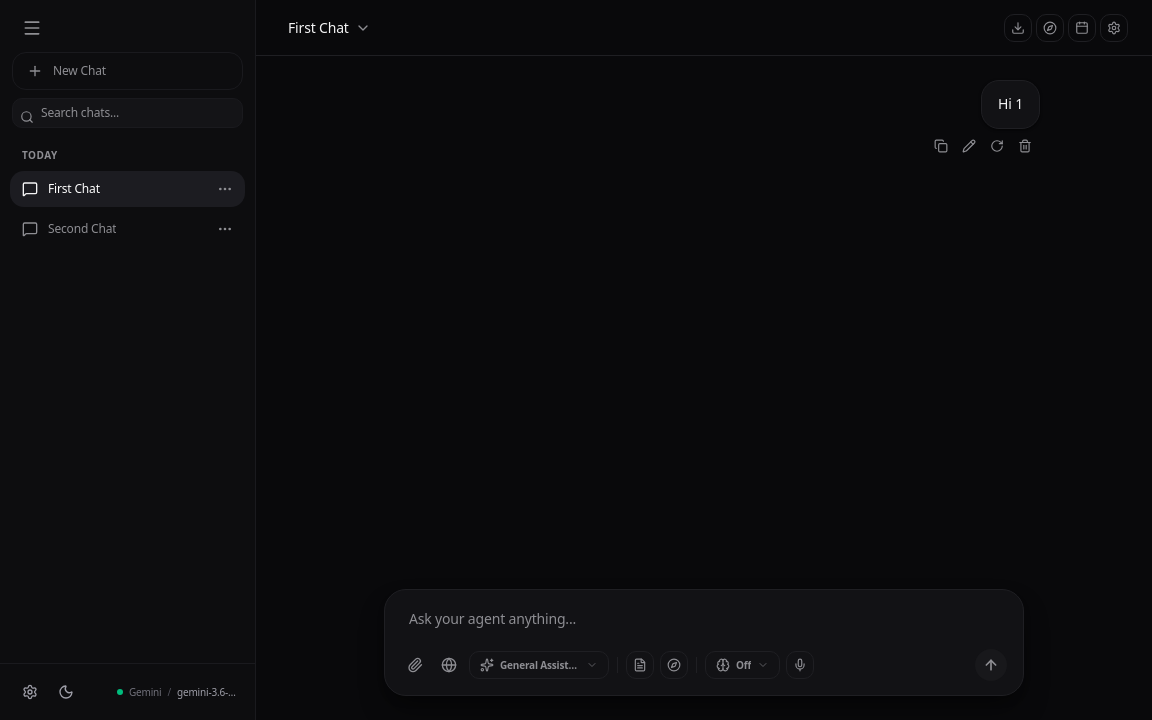
Test: Chat Deletion and Undo Flow in App › restores pending queued message into composer input when generation is stopped
Expected: the text "Hi 1" is shown, x1=998 y1=93 x2=1023 y2=116
// Send 1st message
Type "In flight prompt" into the text box with placeholder "Ask your agent anything..." at (704, 620), box x1=397 y1=602 x2=1011 y2=637
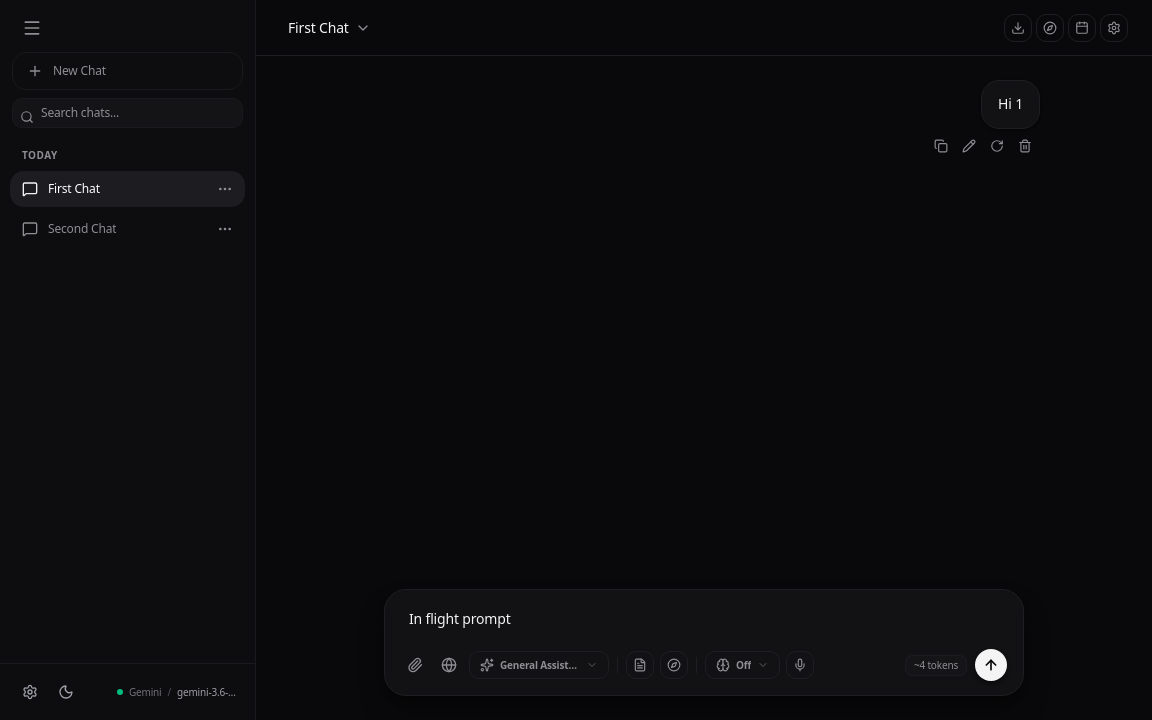
Press Enter in the text box with placeholder "Ask your agent anything...", box x1=397 y1=602 x2=1011 y2=637
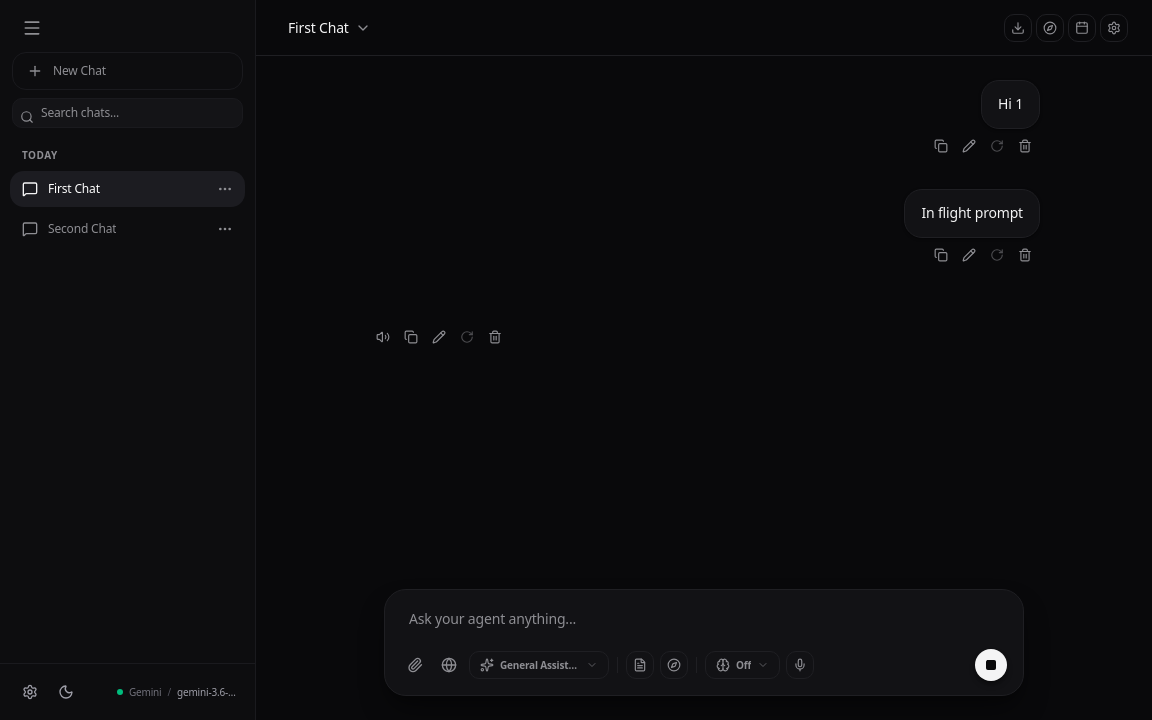
Expected: the button named "Stop generating" is shown, x1=975 y1=649 x2=1007 y2=681
// Queue 2nd message
Type "Pending prompt to recover" into the text box with placeholder "Ask your agent anything..." at (704, 620), box x1=397 y1=602 x2=1011 y2=637
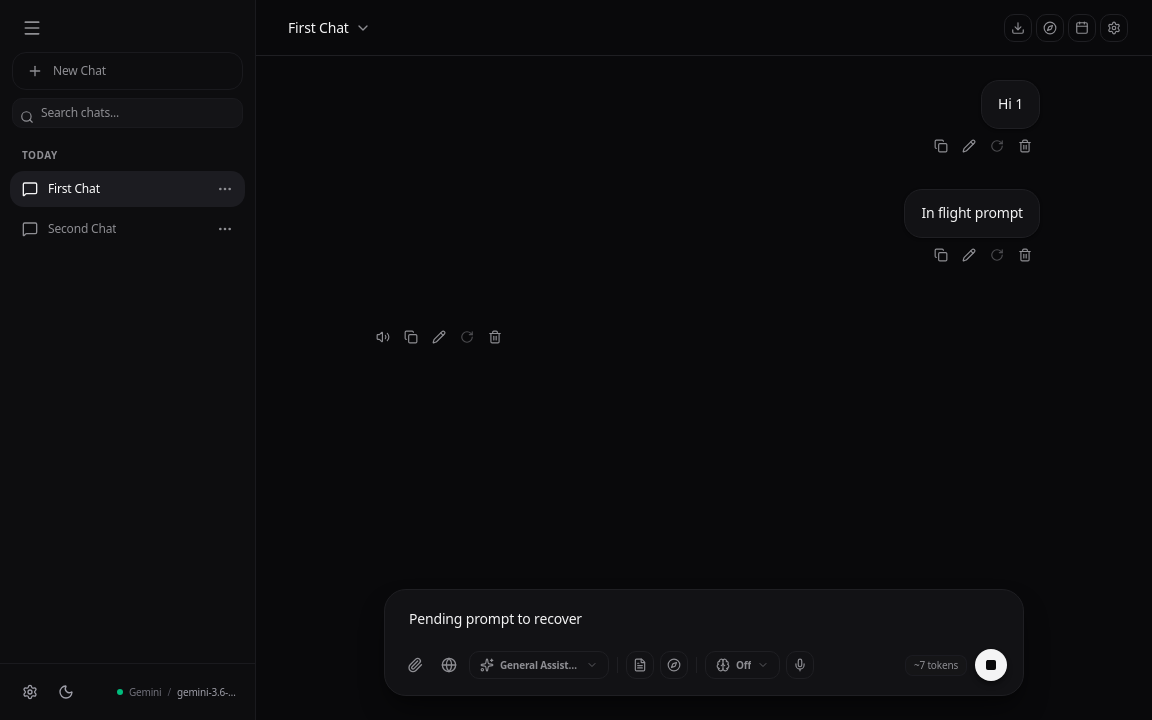
Press Enter in the text box with placeholder "Ask your agent anything...", box x1=397 y1=602 x2=1011 y2=637
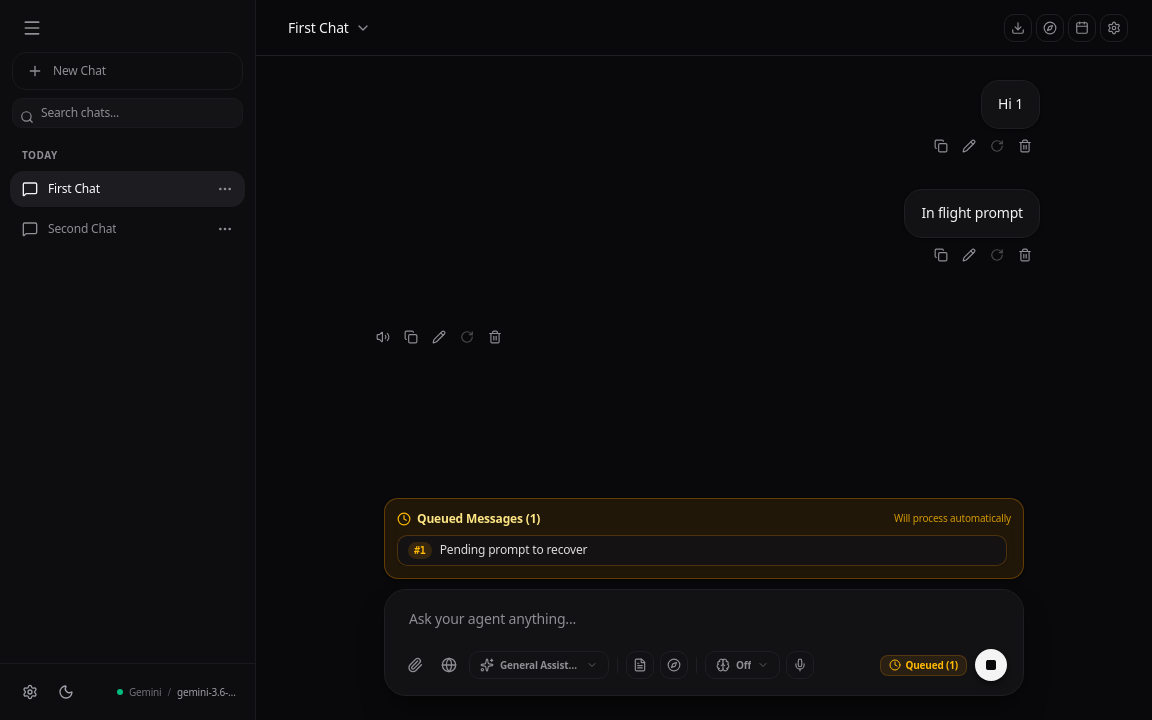
Expected: the text "Queued Messages (1)" is shown, x1=417 y1=511 x2=540 y2=527
Expected: the text "Pending prompt to recover" is shown, x1=440 y1=541 x2=587 y2=558
// Stop generating
Click the button named "Stop generating" at (991, 665), box x1=975 y1=649 x2=1007 y2=681
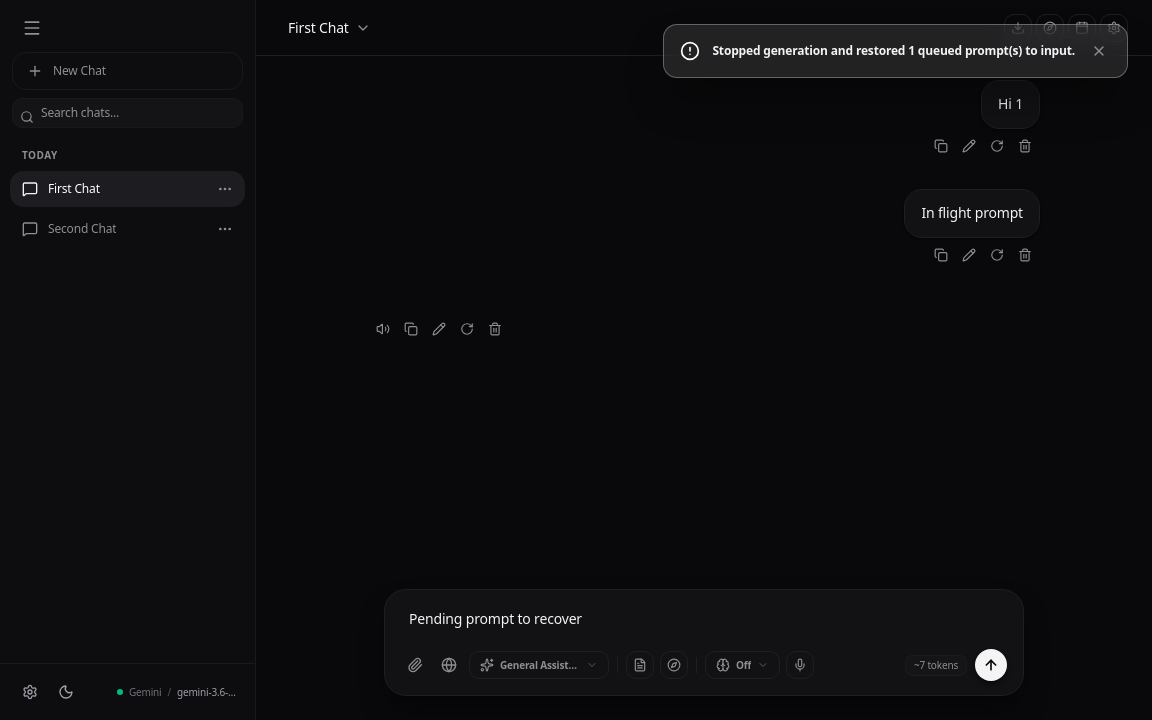
Expected: the text "Queued Messages" is gone
